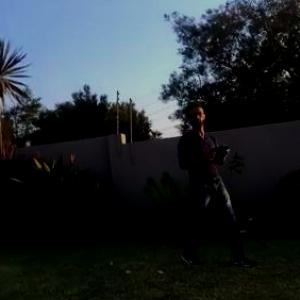follow: (181, 94, 265, 270)
